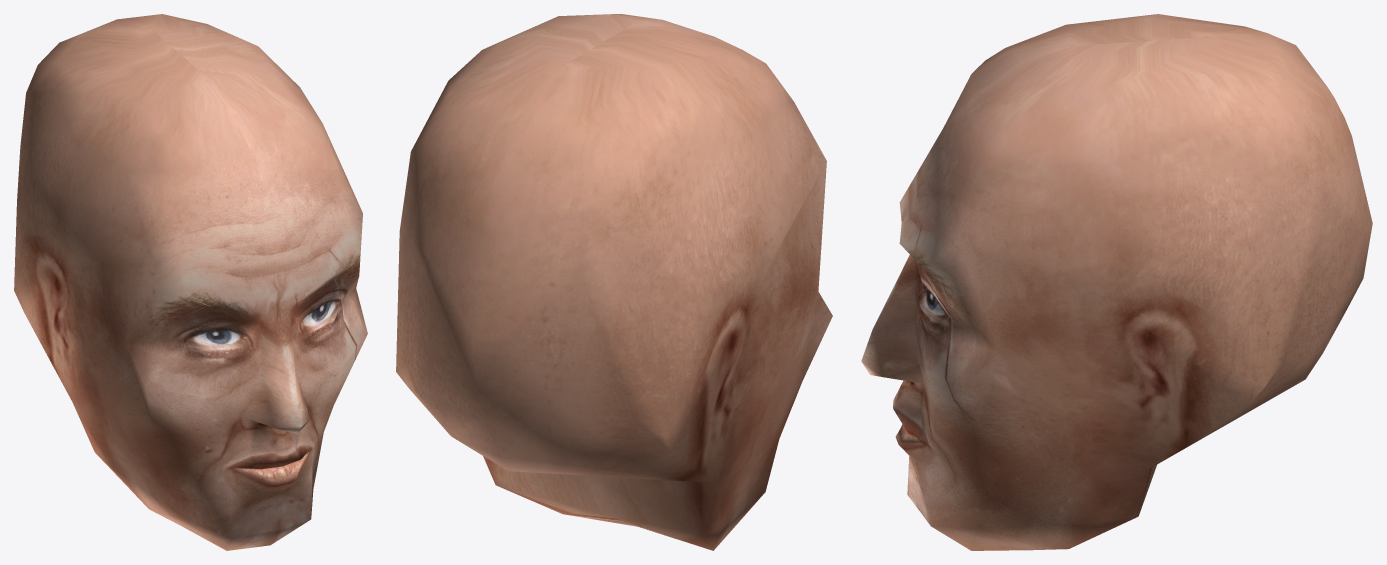
Rendered from b_n_nord_m_head_02.glb.
3 renders of one model, left to right at view 1: azimuth 30°, elevation 25°; view 2: azimuth 150°, elevation 25°; view 3: azimuth 270°, elevation 25°, orthographic. The views are drawn at different scales.
Visible parts, largest first — view 1: Tri B_N_Nord_M_Head_02; view 2: Tri B_N_Nord_M_Head_02; view 3: Tri B_N_Nord_M_Head_02.
Part boxes in pixels (box(x1,y1,x2,y2)): Tri B_N_Nord_M_Head_02: box(14, 14, 367, 550); Tri B_N_Nord_M_Head_02: box(396, 14, 832, 550); Tri B_N_Nord_M_Head_02: box(861, 14, 1372, 550).
Size of the model in its own units: 0.0956 by 0.1602 by 0.1487.
1 material, 1 textured.
